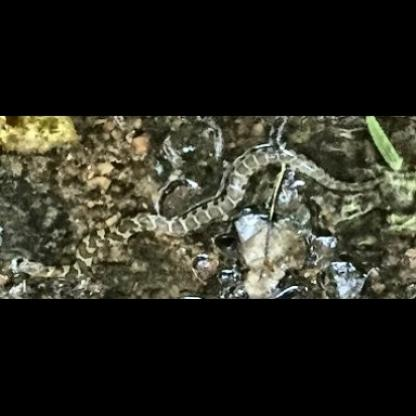Snake: (13, 142, 412, 285)
